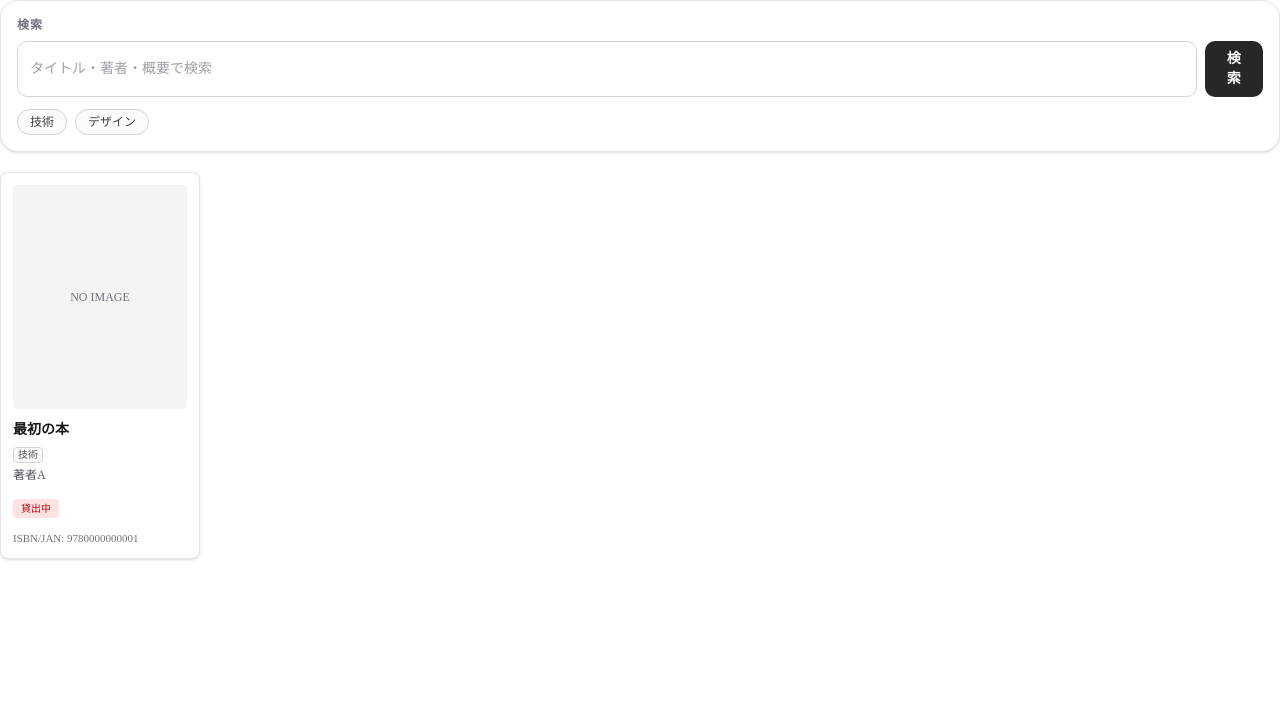
Test case: BookListClient › ジャンルだけの検索では全文検索APIを呼ばず、IDと表示名を保持する
Click the button "デザイン": (112, 122) x1=75 y1=109 x2=149 y2=135
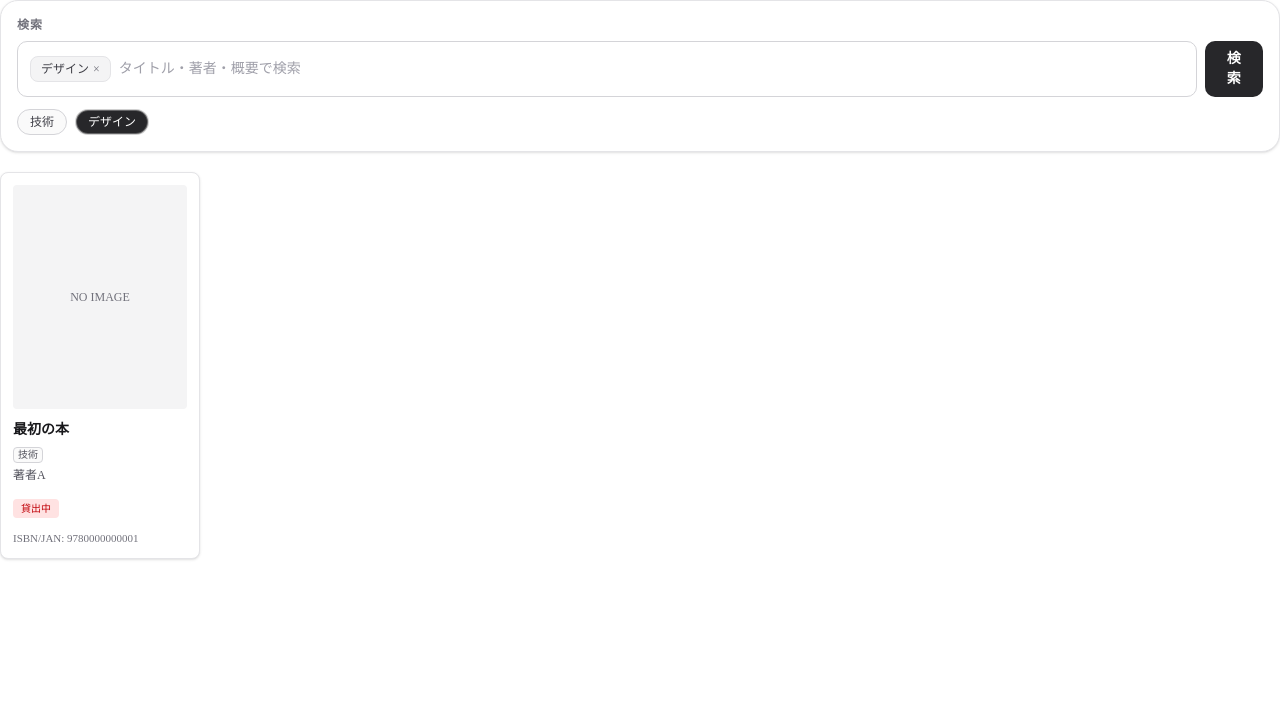
Result: the button named "デザインを削除" is shown at x1=93 y1=61 x2=100 y2=77
Click the button "検索": (1234, 69) x1=1204 y1=41 x2=1263 y2=97
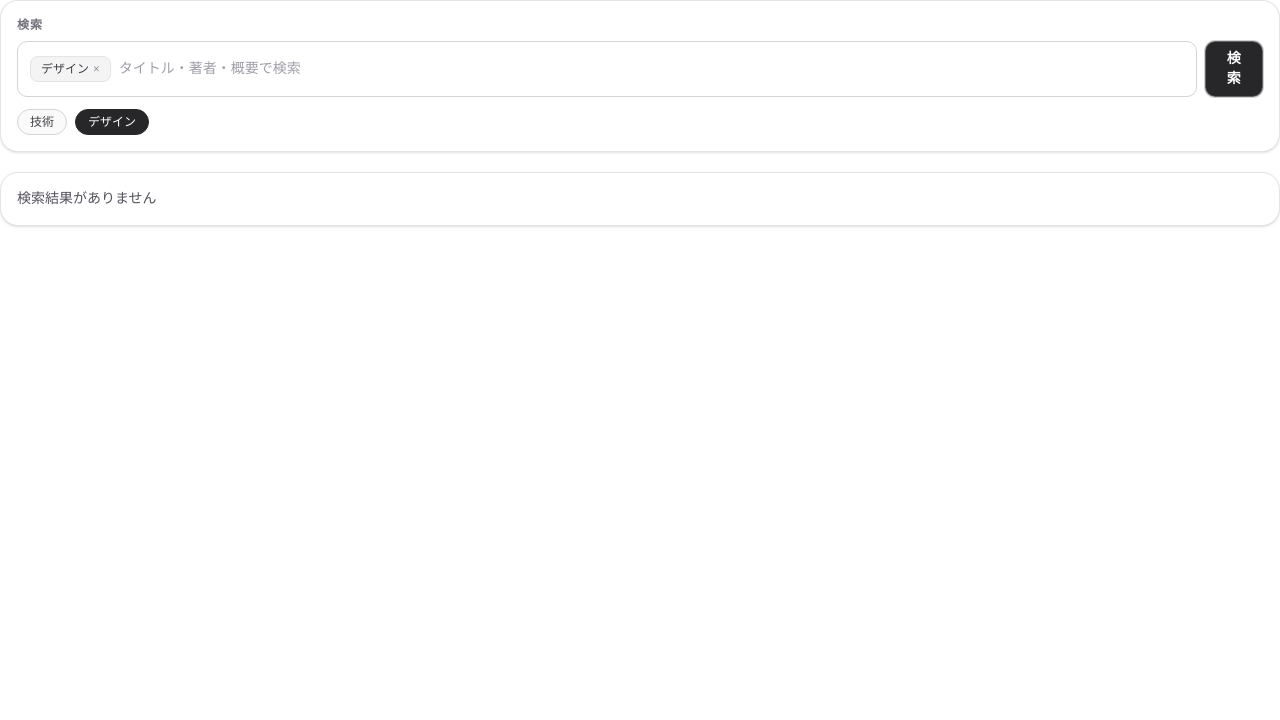
Result: the text "検索結果がありません" is shown at x1=0 y1=172 x2=1279 y2=226
